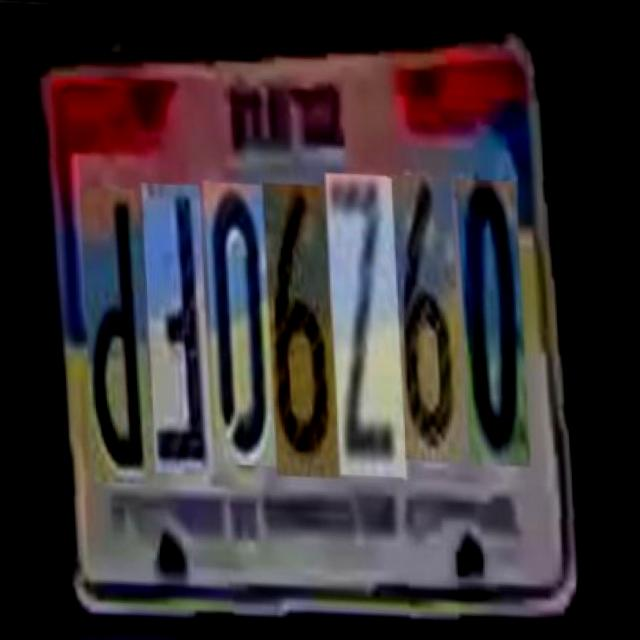0: (207, 179, 278, 464)
9: (267, 179, 341, 476), (393, 168, 467, 457)
f: (146, 183, 216, 474)
o: (461, 171, 532, 461)
p: (84, 187, 155, 486)
z: (330, 170, 409, 474)
